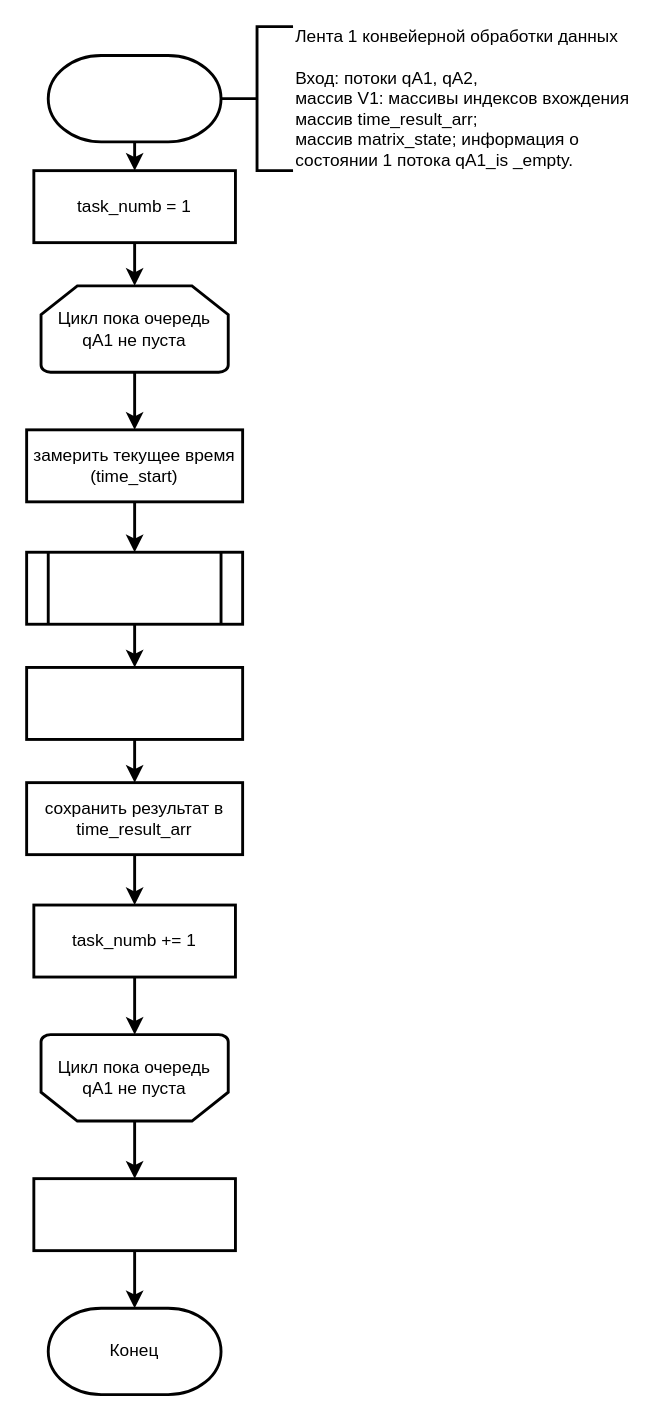
Image size: 654x1420. Some labels were removed from this diagram. Here are the shapes that lost their labels. From the top down, the box of each, then its label:
(46, 53, 222, 143): Начало
(24, 550, 243, 625): выполнить task1
(24, 665, 243, 740): замерить текущее время (time_end)
(32, 1176, 236, 1251): qA1_is_empty = true
